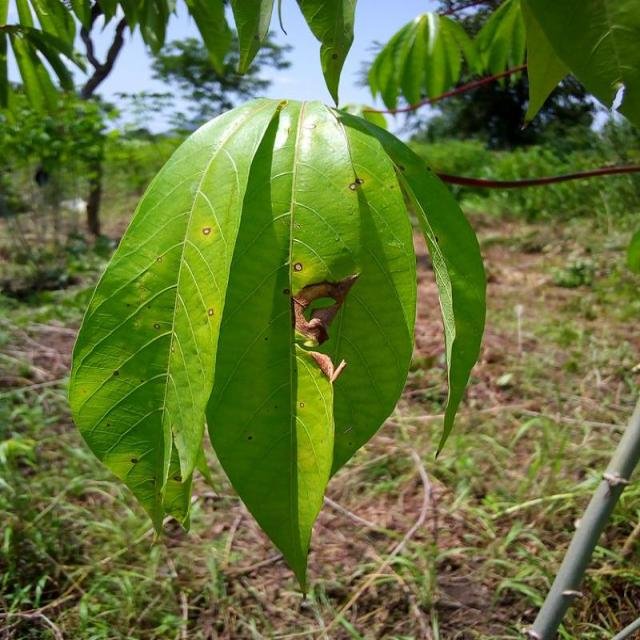cassava leaf: (67, 95, 487, 594)
